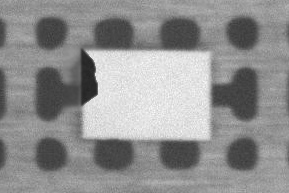DIE_BROKEN: (117, 33, 150, 71)
